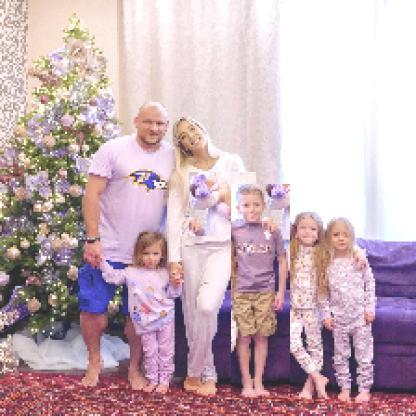child: (100, 231, 183, 395), (232, 185, 292, 400), (326, 214, 378, 406), (284, 210, 327, 400), (190, 173, 258, 238)
